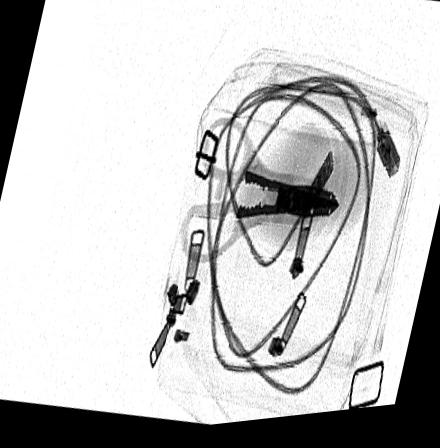Scissors: (177, 116, 341, 273)
